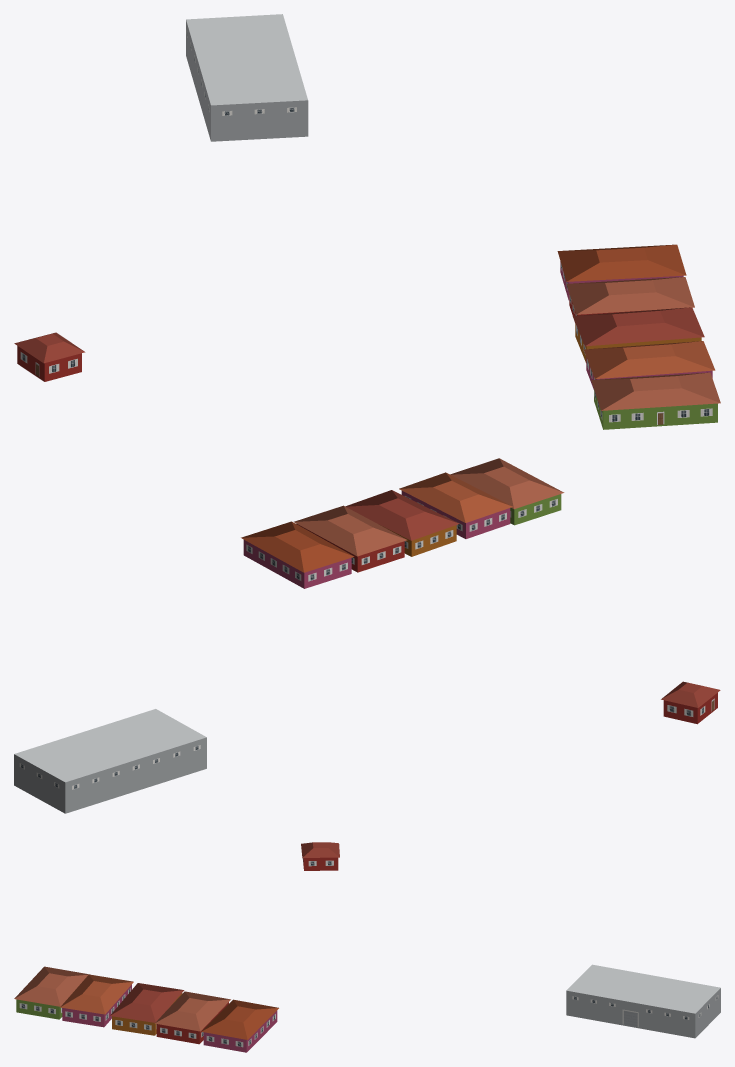
The model's file is msb_palmbeach_m23_m11.glb.
3 renders of one model, top to bottom at view 1: azimuth 30°, elevation 25°; view 2: azimuth 150°, elevation 25°; view 3: azimuth 270°, elevation 25°, orthographic. The views are drawn at different scales.
Parts seen in each view (by area): view 1: msb_palmbeach_m23_m11_lod0; view 2: msb_palmbeach_m23_m11_lod0; view 3: msb_palmbeach_m23_m11_lod0.
Part boxes in pixels (left/top/right/bottom): msb_palmbeach_m23_m11_lod0: left=14, top=14, right=720, bottom=429; msb_palmbeach_m23_m11_lod0: left=14, top=458, right=720, bottom=813; msb_palmbeach_m23_m11_lod0: left=14, top=842, right=720, bottom=1052.
Size of what is drawn, in the model's own units: 108 by 6.61 by 163.
3 materials, 1 textured.
